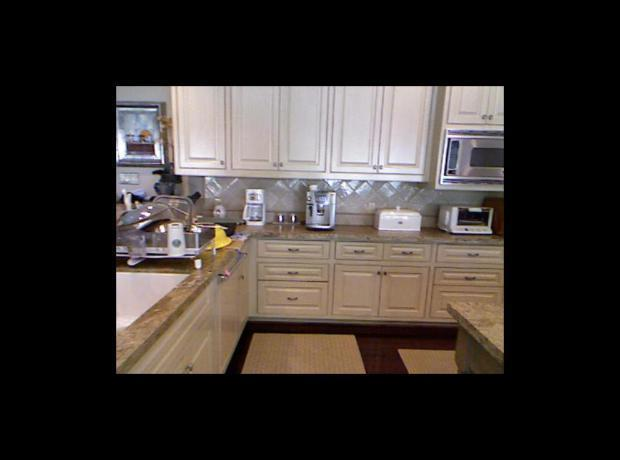Lavaplatos: (118, 261, 196, 345)
